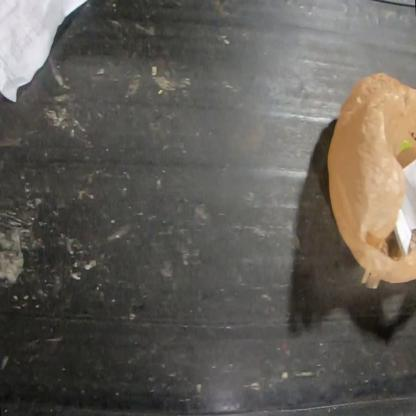soft_plastic: (325, 70, 415, 288)
